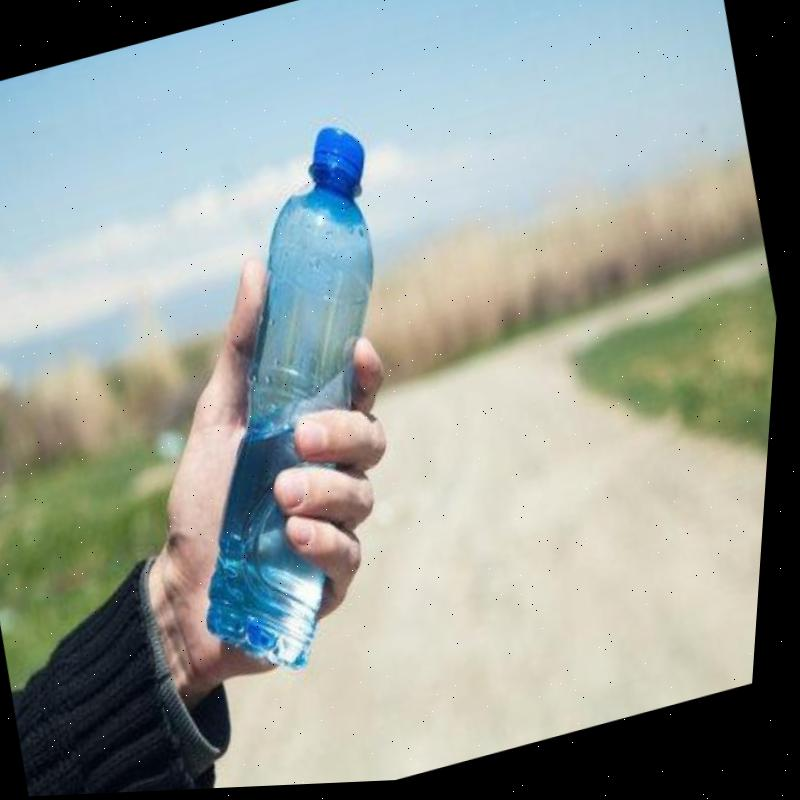botella: (108, 116, 481, 700)
